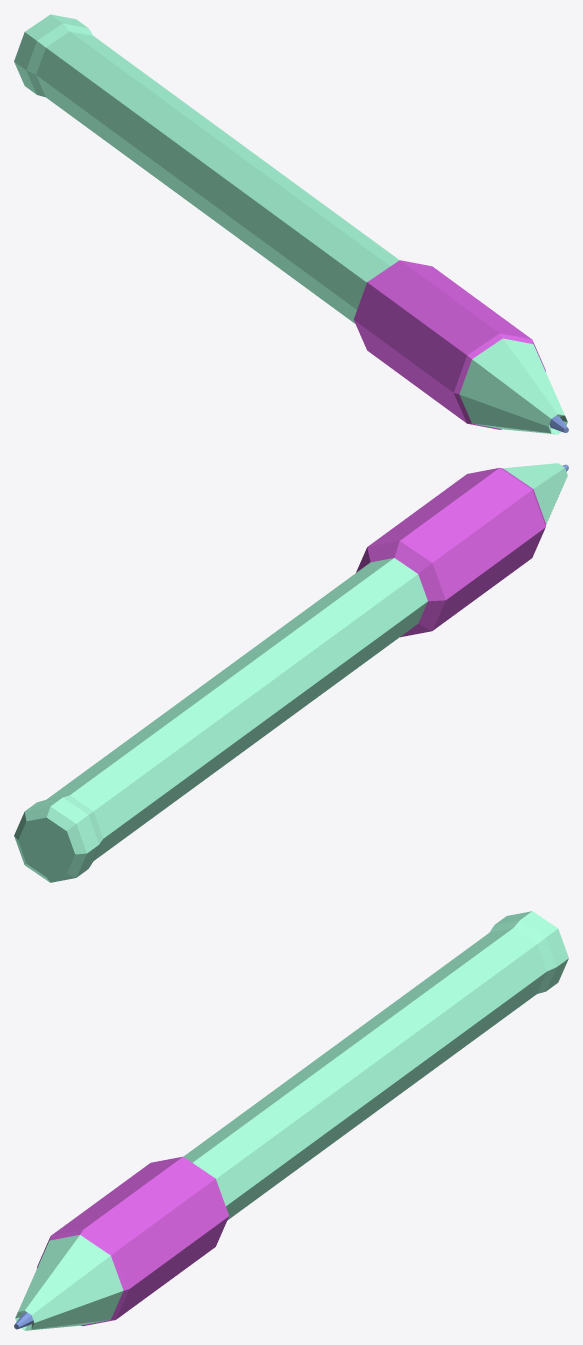
The model's file is pen.fbx.
3 renders of one model, top to bottom at view 1: azimuth 30°, elevation 25°; view 2: azimuth 150°, elevation 25°; view 3: azimuth 330°, elevation 25°, orthographic.
Visible parts, largest first — view 1: pen; view 2: pen; view 3: pen.
Boxes of the visible parts, x1,y1,x2,y2 form: pen: (14,14,568,434); pen: (14,463,568,882); pen: (14,911,568,1330).
Size of the model in its own units: 0.0226 by 0.0226 by 0.2204.
